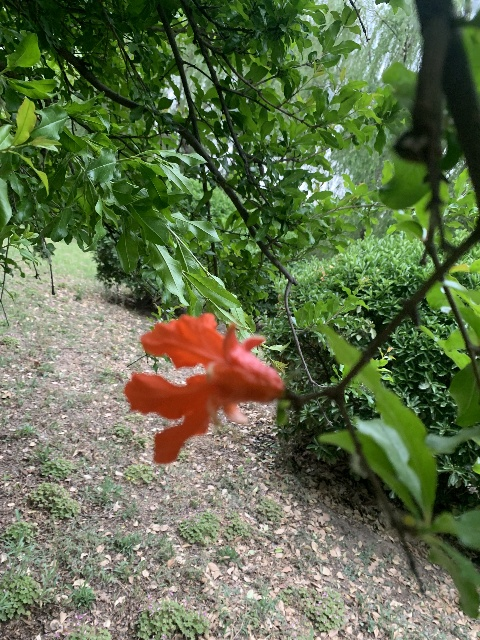flower: (124, 312, 284, 465)
